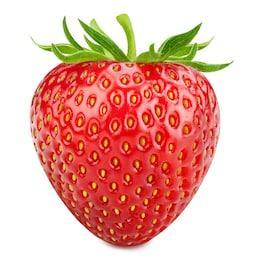Fresa: (22, 44, 228, 251)
